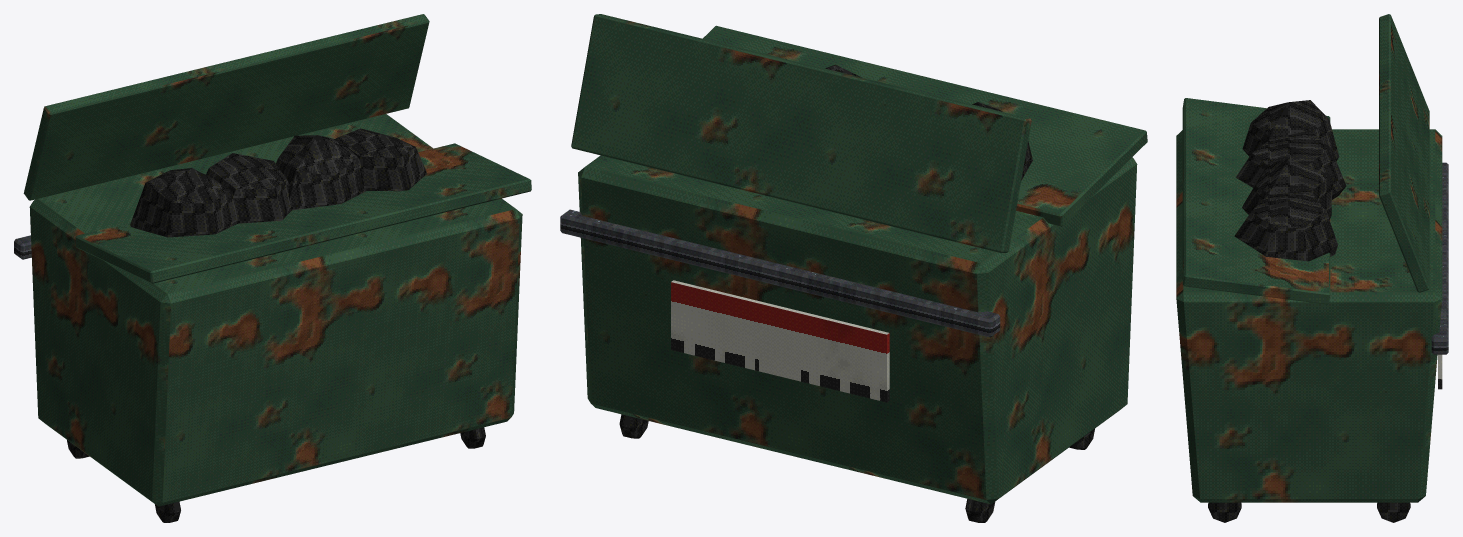
File: prop_dumpster.glb
3 renders of one model, left to right at view 1: azimuth 30°, elevation 25°; view 2: azimuth 150°, elevation 25°; view 3: azimuth 270°, elevation 25°, orthographic. The views are drawn at different scales.
Parts seen in each view (by area): view 1: prop_dumpster_mesh; view 2: prop_dumpster_mesh; view 3: prop_dumpster_mesh.
Boxes of the visible parts, x1,y1,x2,y2 form: prop_dumpster_mesh: (14,14,531,522); prop_dumpster_mesh: (560,14,1147,522); prop_dumpster_mesh: (1176,14,1448,522).
Bounding box in the file's own units: 2 × 1.82 × 1.29.
4 materials, 4 textured.
